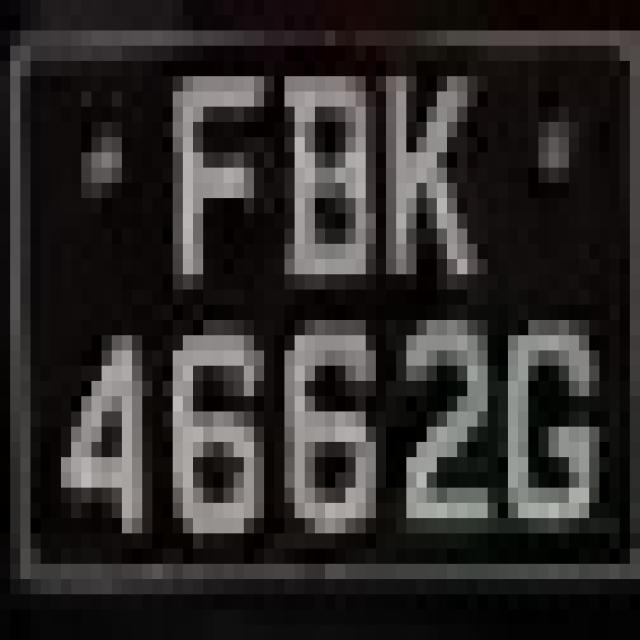2: (366, 274, 498, 579)
4: (31, 289, 152, 564)
6: (122, 274, 274, 503), (264, 305, 396, 533)
B: (254, 46, 376, 335)
F: (142, 0, 244, 305)
G: (498, 259, 620, 579)
K: (366, 30, 488, 320)
